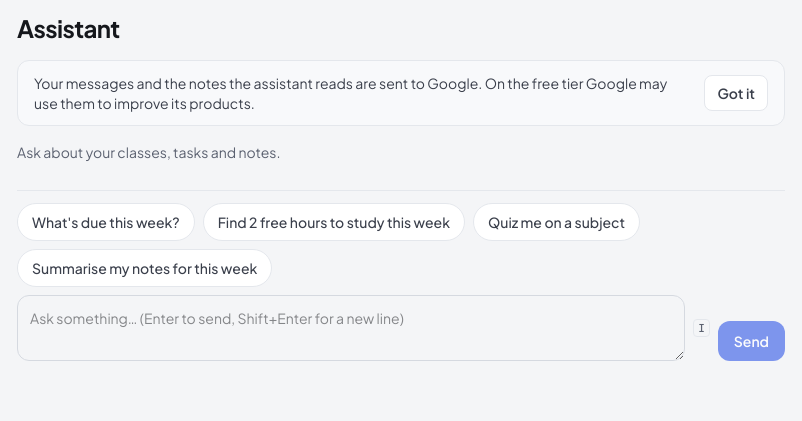
Test case: AssistantPage › streaming › after Stop resyncs again shortly after and drops the stopped bubble once history has the exchange
In the text box named "Message the assistant": (351,328) top-left (17, 295), bottom-right (685, 361), type "hi"
Then press Enter
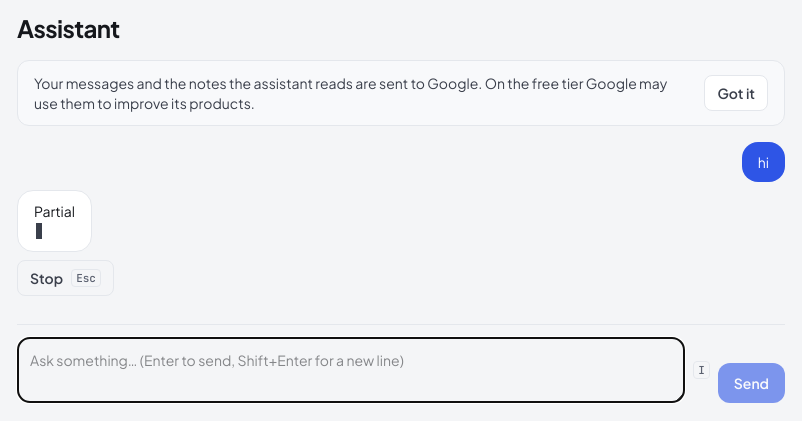
Check: the text "Partial" is shown, box top-left (34, 201), bottom-right (75, 221)
Click the button "Stop Esc": (65,278) top-left (17, 260), bottom-right (114, 296)
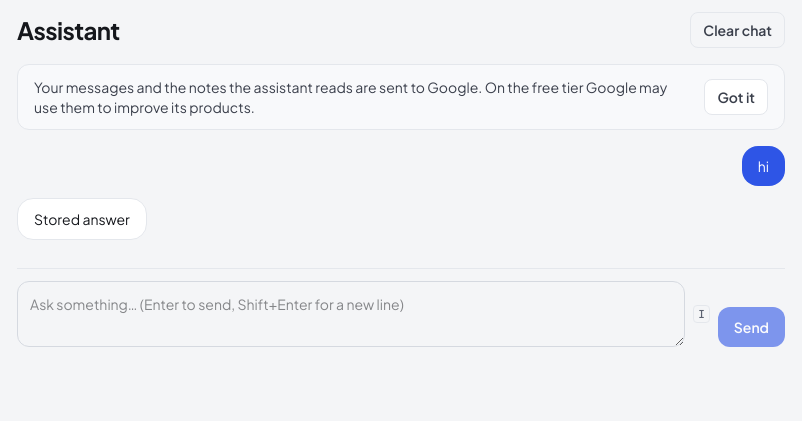
Check: the text "Stored answer" is shown, box top-left (34, 209), bottom-right (130, 229)
